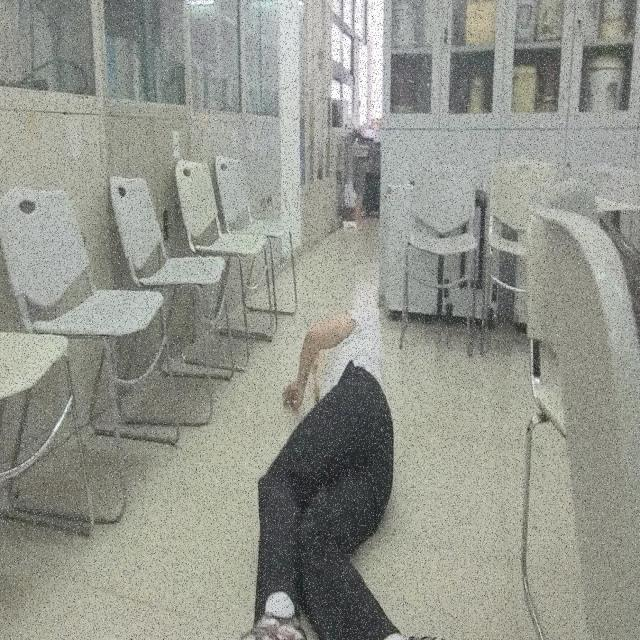fall: (208, 302, 452, 640)
